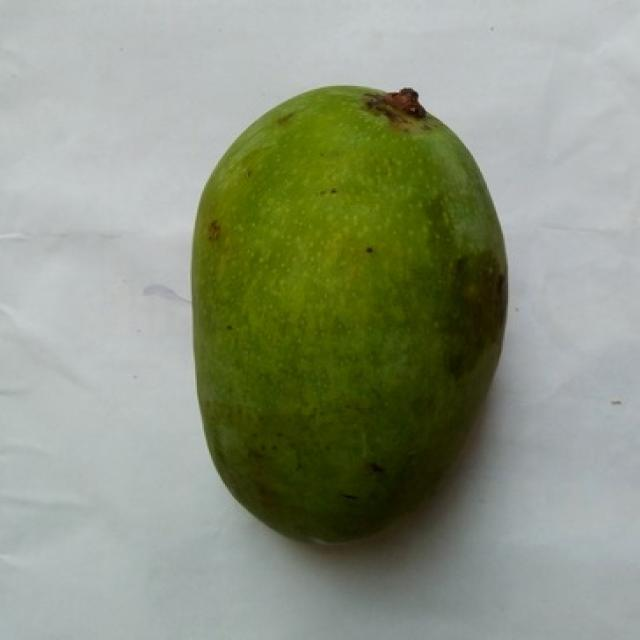Mango: (193, 86, 506, 541)
